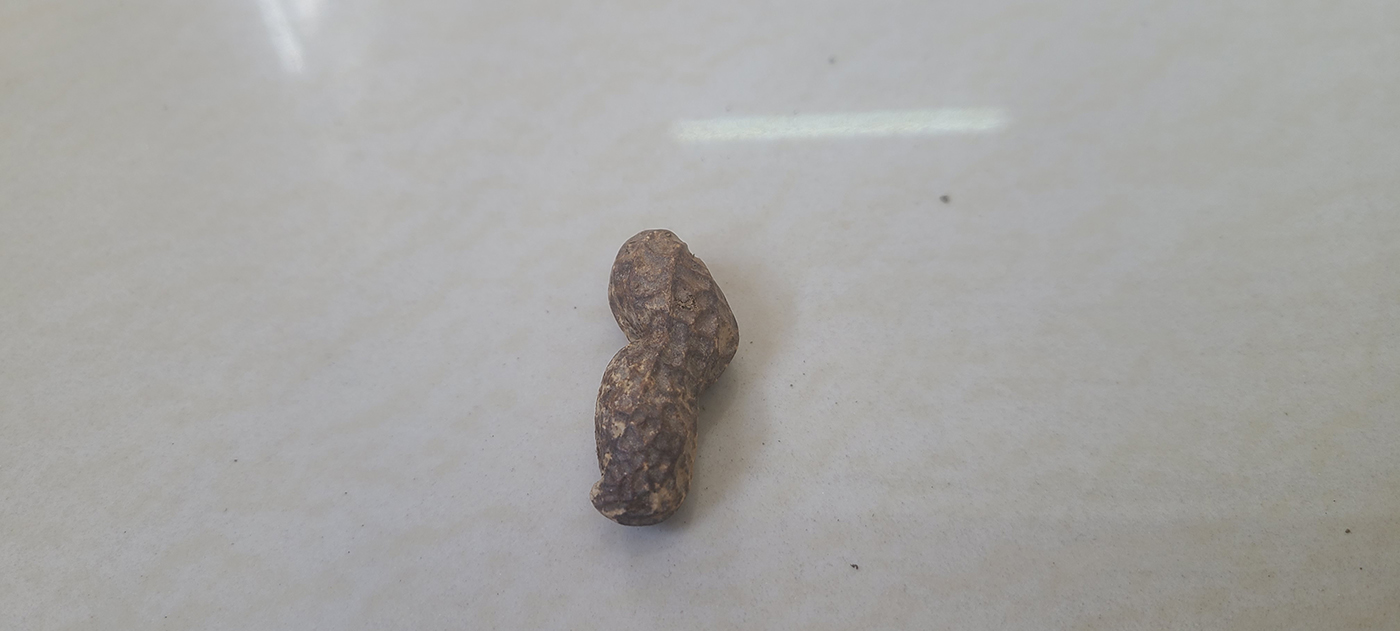l: (587, 227, 739, 528)
